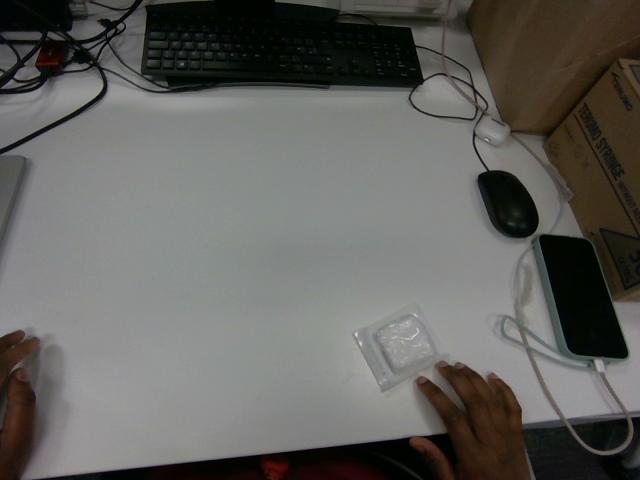gauze: (353, 304, 443, 390)
